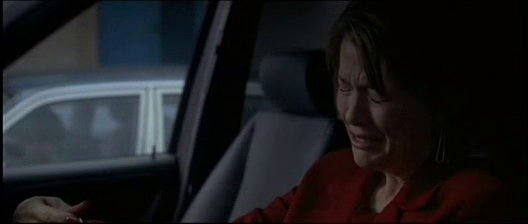cu: (1, 1, 528, 224)
face: (336, 59, 402, 169)
person: (10, 1, 528, 224)
